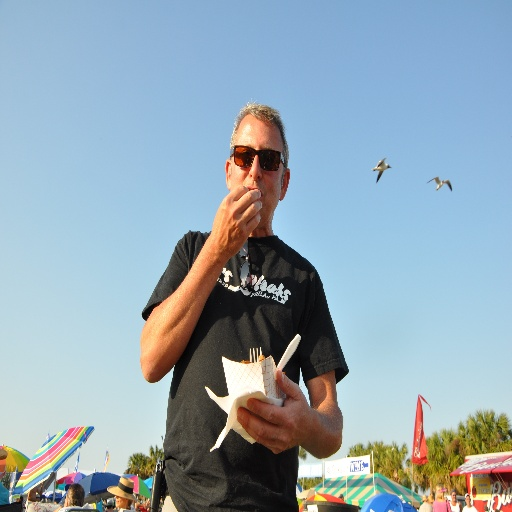hand: (236, 367, 313, 456), (208, 182, 256, 263)
